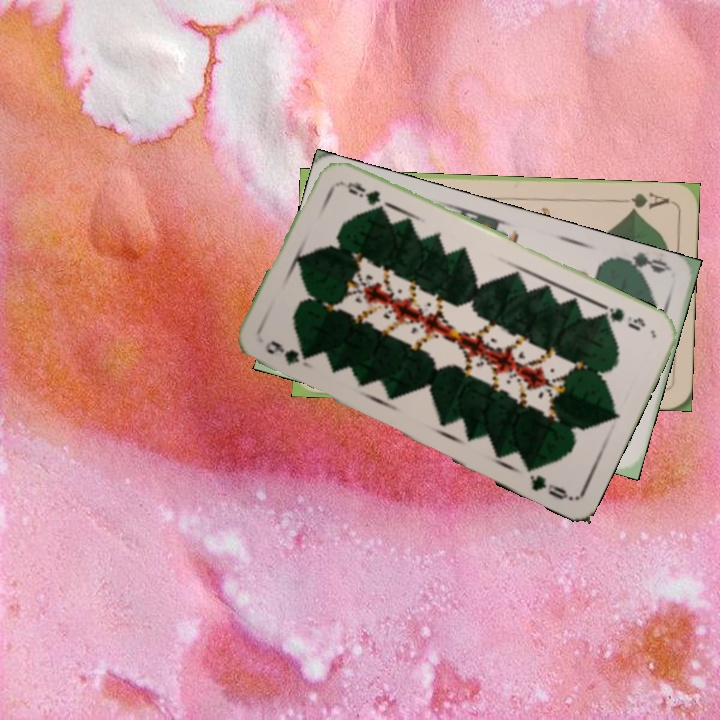G9: (261, 336, 314, 371), (595, 300, 648, 334)
GA: (614, 188, 672, 215)
GO: (613, 249, 672, 280)
